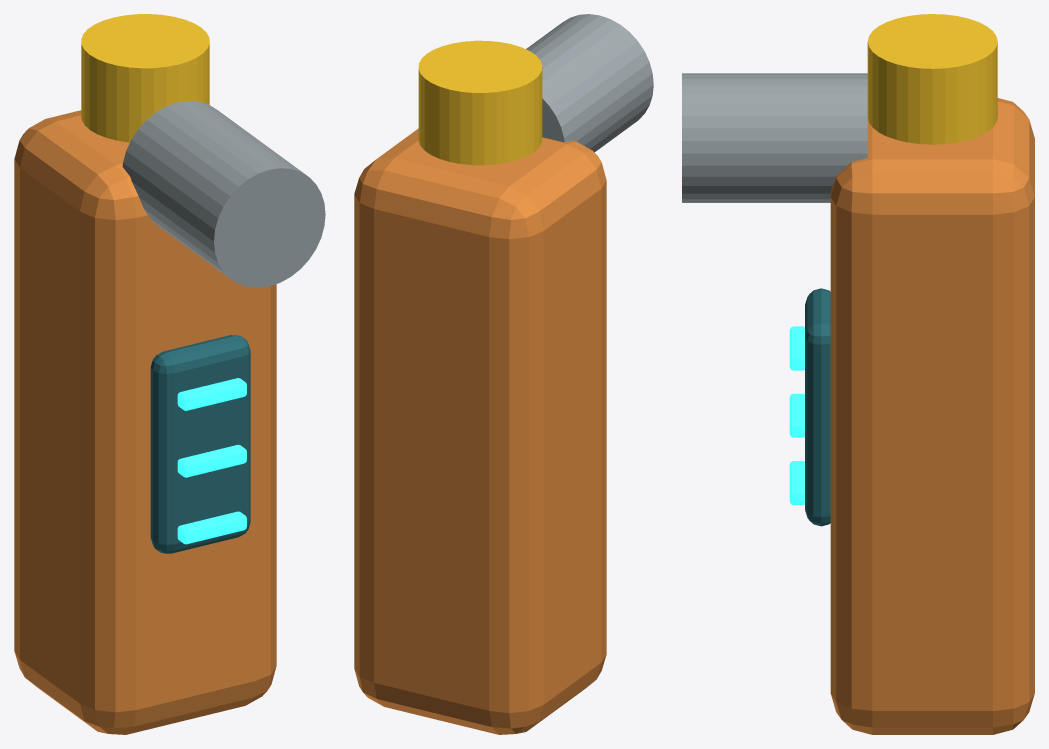
The model's file is medicinal_inhaler_variant_a.glb.
The picture shows the model from 3 angles, left to right: view 1: azimuth 30°, elevation 25°; view 2: azimuth 150°, elevation 25°; view 3: azimuth 270°, elevation 25°; orthographic projection. The views are drawn at different scales.
Parts seen in each view (by area): view 1: Inhaler body, Mouthpiece, Dose window, Release button, Dose marking, Dose marking.001, Dose marking.002; view 2: Inhaler body, Release button, Mouthpiece; view 3: Inhaler body, Mouthpiece, Release button, Dose window, Dose marking.001, Dose marking.002, Dose marking.
Boxes of the visible parts, x1,y1,x2,y2 form: Inhaler body: (14, 105, 276, 734); Mouthpiece: (122, 100, 325, 287); Dose window: (150, 335, 250, 553); Release button: (81, 14, 209, 142); Dose marking: (177, 511, 246, 544); Dose marking.001: (177, 444, 246, 477); Dose marking.002: (177, 378, 246, 410); Inhaler body: (354, 128, 606, 734); Release button: (418, 40, 542, 165); Mouthpiece: (526, 14, 653, 152); Inhaler body: (830, 98, 1034, 734); Mouthpiece: (682, 73, 867, 202); Release button: (867, 14, 997, 144); Dose window: (805, 288, 830, 526); Dose marking.001: (789, 393, 804, 437); Dose marking.002: (789, 326, 804, 370); Dose marking: (789, 461, 804, 504).
Size of what is drawn, in the model's own units: 0.24 by 0.785 by 0.38.
